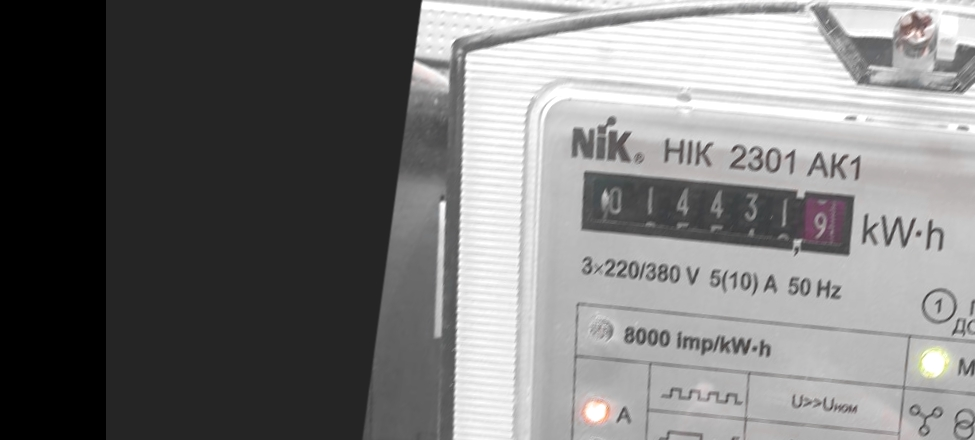0: (602, 180, 626, 216)
1: (639, 180, 661, 215), (775, 194, 792, 227)
3: (738, 189, 762, 223)
4: (670, 181, 695, 217), (705, 183, 727, 219)
9: (808, 206, 829, 239)
screen: (566, 149, 870, 274)
